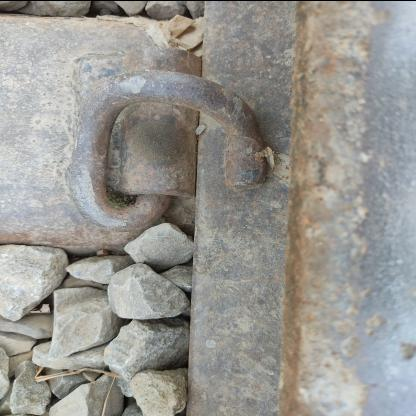Non Defective 1: (25, 18, 354, 274)
